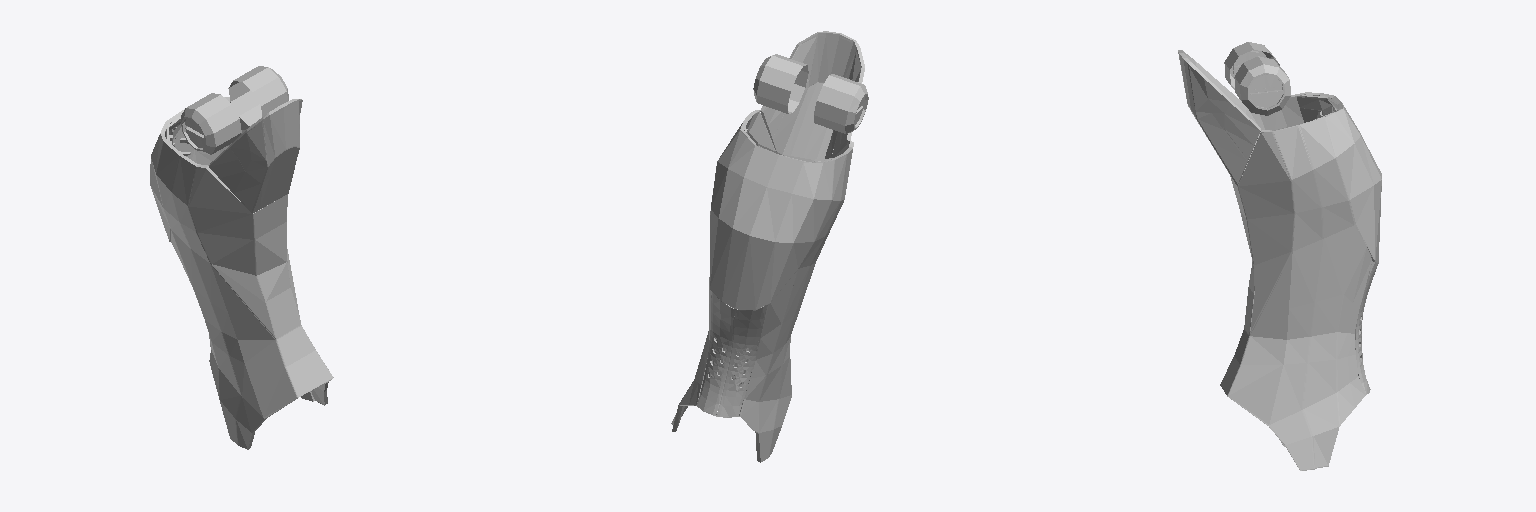
Rendered from ileftlegd2.obj.
The picture shows the model from 3 angles: view 1: azimuth 30°, elevation 25°; view 2: azimuth 150°, elevation 25°; view 3: azimuth 270°, elevation 25°; orthographic projection.
Parts seen in each view (by area): view 1: HD_Ironman:polySurface2610_polySurface3593; view 2: HD_Ironman:polySurface2610_polySurface3593; view 3: HD_Ironman:polySurface2610_polySurface3593.
Boxes of the visible parts, x1=… form: HD_Ironman:polySurface2610_polySurface3593: x1=150, y1=66, x2=333, y2=449; HD_Ironman:polySurface2610_polySurface3593: x1=671, y1=31, x2=868, y2=462; HD_Ironman:polySurface2610_polySurface3593: x1=1178, y1=42, x2=1381, y2=470.
Bounding box in the file's own units: 2.93 × 6.63 × 3.17.